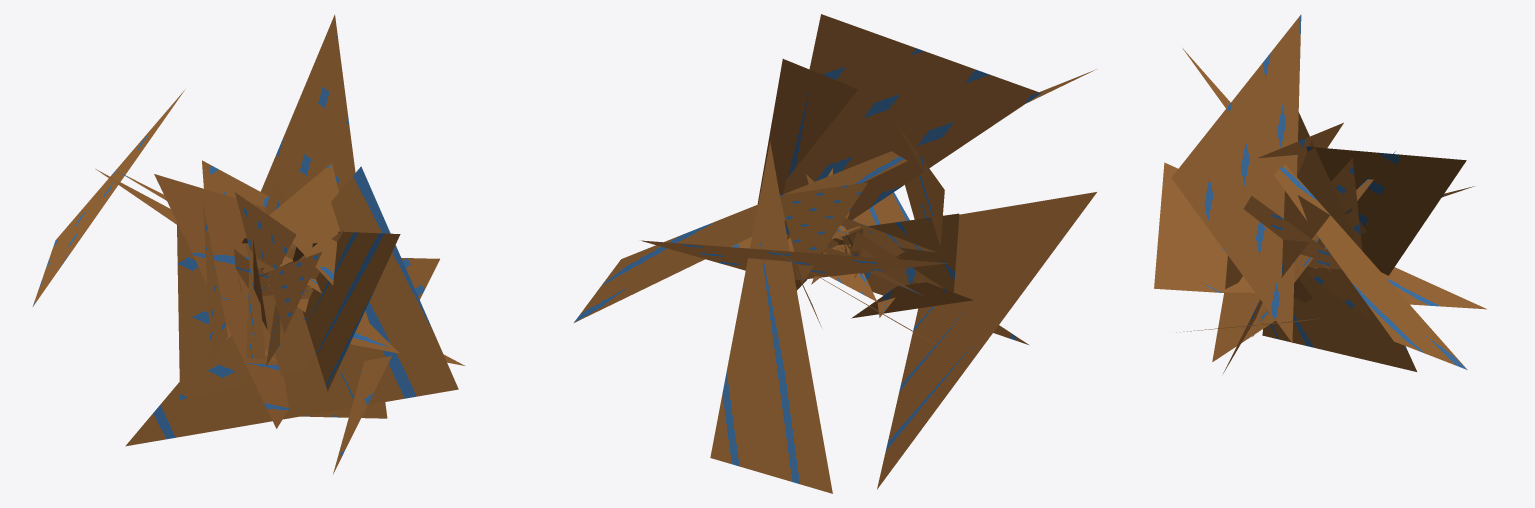
Rendered from uv_random_mixed.glb.
3 renders of one model, left to right at view 1: azimuth 30°, elevation 25°; view 2: azimuth 150°, elevation 25°; view 3: azimuth 270°, elevation 25°, orthographic. The views are drawn at different scales.
Size of the model in its own units: 474 by 488 by 526.
1 material, 1 textured.
